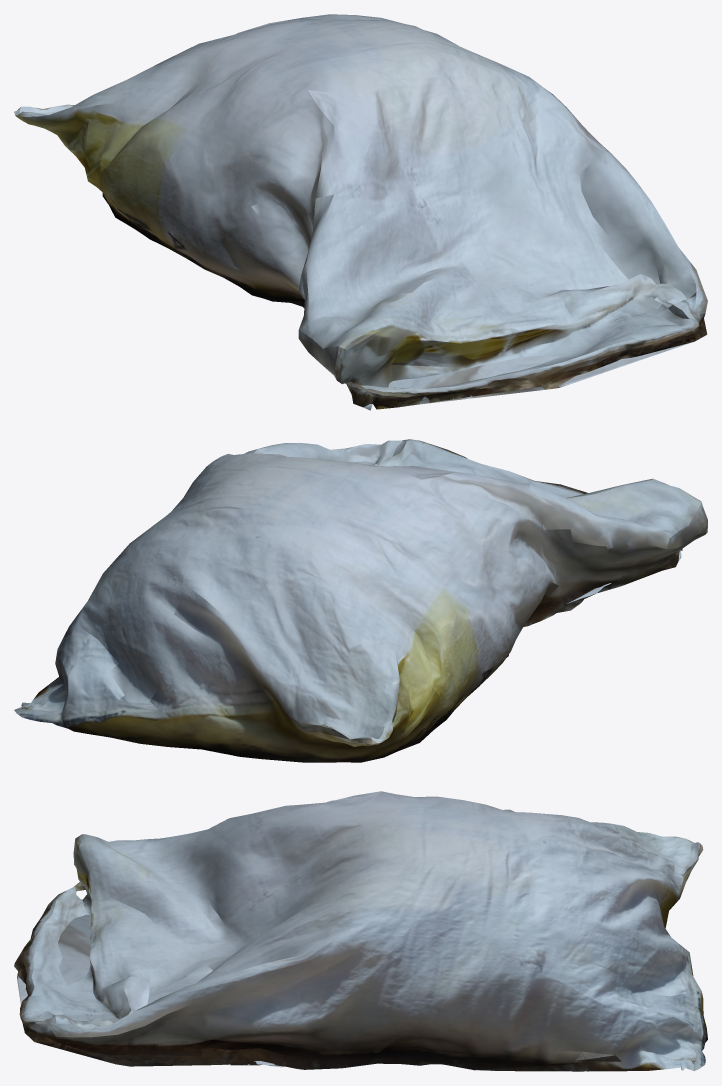
The model's file is saco de tela.fbx.
3 views of the same model, one above another, from view 1: azimuth 30°, elevation 25°; view 2: azimuth 150°, elevation 25°; view 3: azimuth 270°, elevation 25° (orthographic). The views are drawn at different scales.
Visible parts, largest first — view 1: Group40485; view 2: Group40485; view 3: Group40485.
Boxes of the visible parts, x1=… form: Group40485: x1=14, y1=14, x2=707, y2=410; Group40485: x1=14, y1=439, x2=707, y2=762; Group40485: x1=14, y1=791, x2=707, y2=1071.
Bounding box in the file's own units: 11.86 × 5.2 × 19.42.
